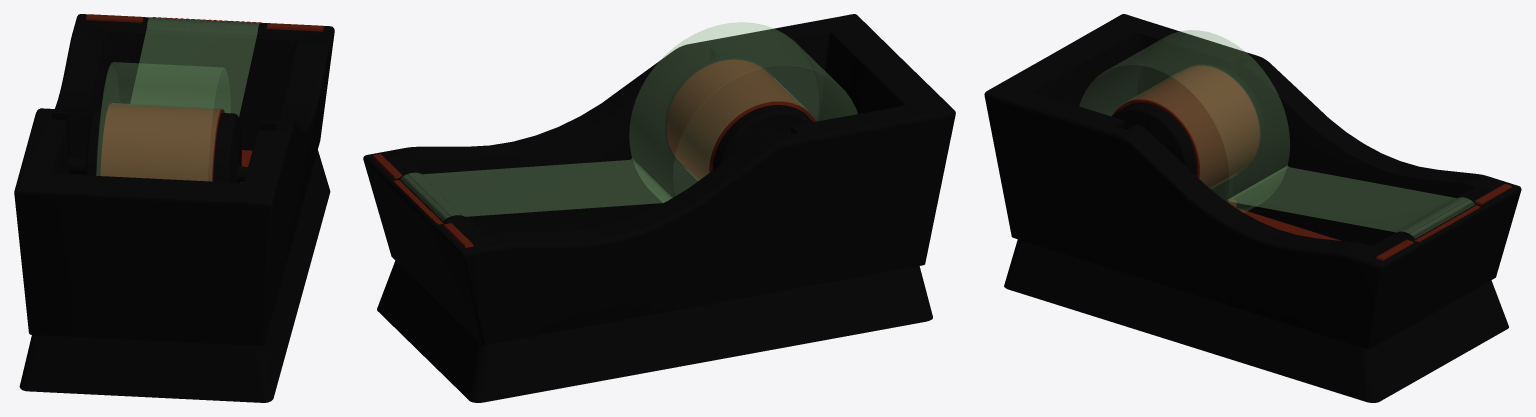
Rendered from tape.obj.
The picture shows the model from 3 angles, left to right: view 1: azimuth 30°, elevation 25°; view 2: azimuth 150°, elevation 25°; view 3: azimuth 270°, elevation 25°; orthographic projection. The views are drawn at different scales.
Parts seen in each view (by area): view 1: arch20_018; view 2: arch20_018; view 3: arch20_018.
Boxes of the visible parts, box(x1,y1,x2,y2) form: arch20_018: box(14, 14, 334, 402); arch20_018: box(363, 14, 955, 402); arch20_018: box(984, 14, 1521, 402).
Bounding box in the file's own units: 41.61 × 22.14 × 46.27.
